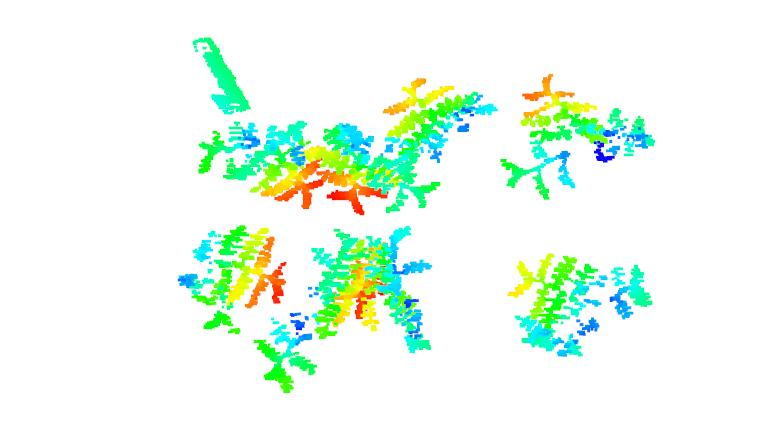chickpea: (506, 74, 657, 194), (511, 250, 651, 362), (266, 223, 359, 389), (339, 223, 435, 357), (198, 110, 321, 210), (179, 224, 290, 334), (382, 77, 498, 163), (310, 116, 391, 219)
